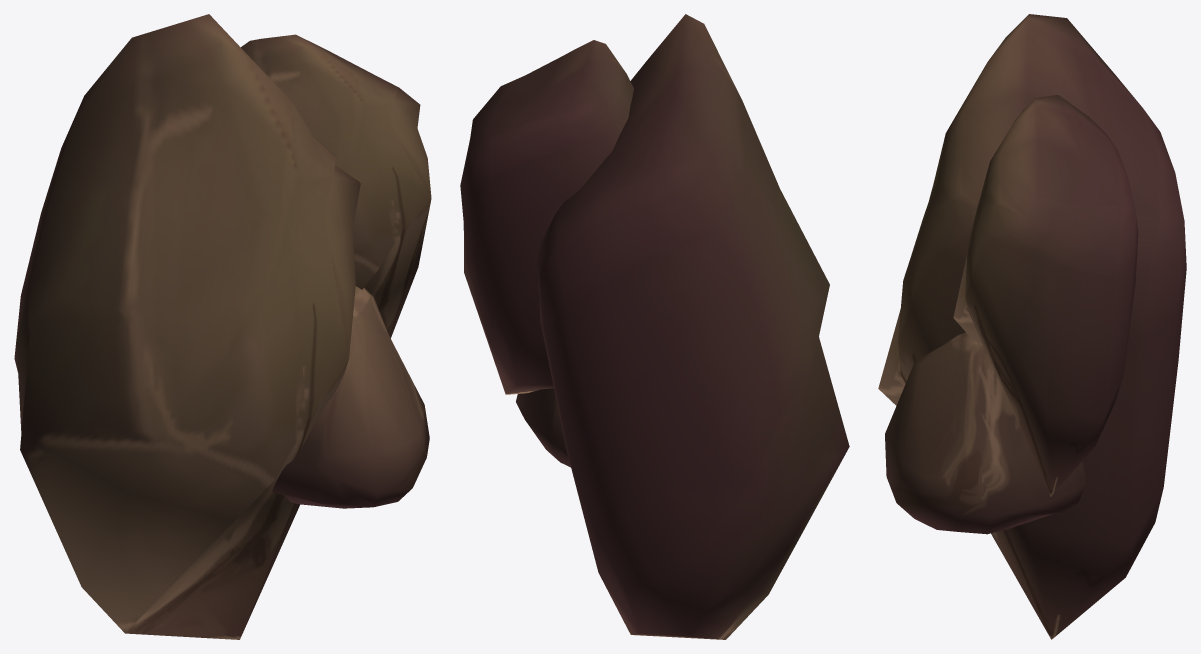
The model's file is Rock008.glb.
3 views of the same model, side by side, from view 1: azimuth 30°, elevation 25°; view 2: azimuth 150°, elevation 25°; view 3: azimuth 270°, elevation 25° (orthographic). The views are drawn at different scales.
Parts seen in each view (by area): view 1: Cube.013; view 2: Cube.013; view 3: Cube.013.
Part boxes in pixels (x1,y1,x2,y2): Cube.013: (14, 14, 431, 639); Cube.013: (460, 14, 849, 639); Cube.013: (878, 14, 1186, 639).
Size of the model in its own units: 0.6409 by 0.9908 by 0.4611.
1 material, 1 textured.
